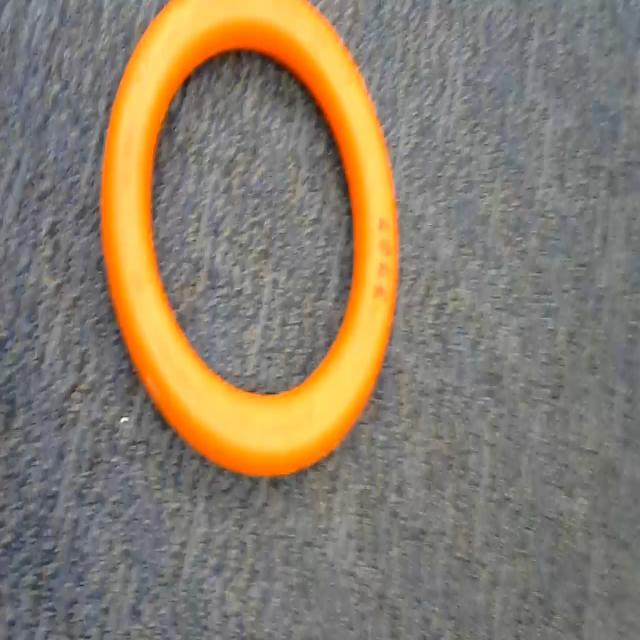note: (90, 0, 410, 485)
